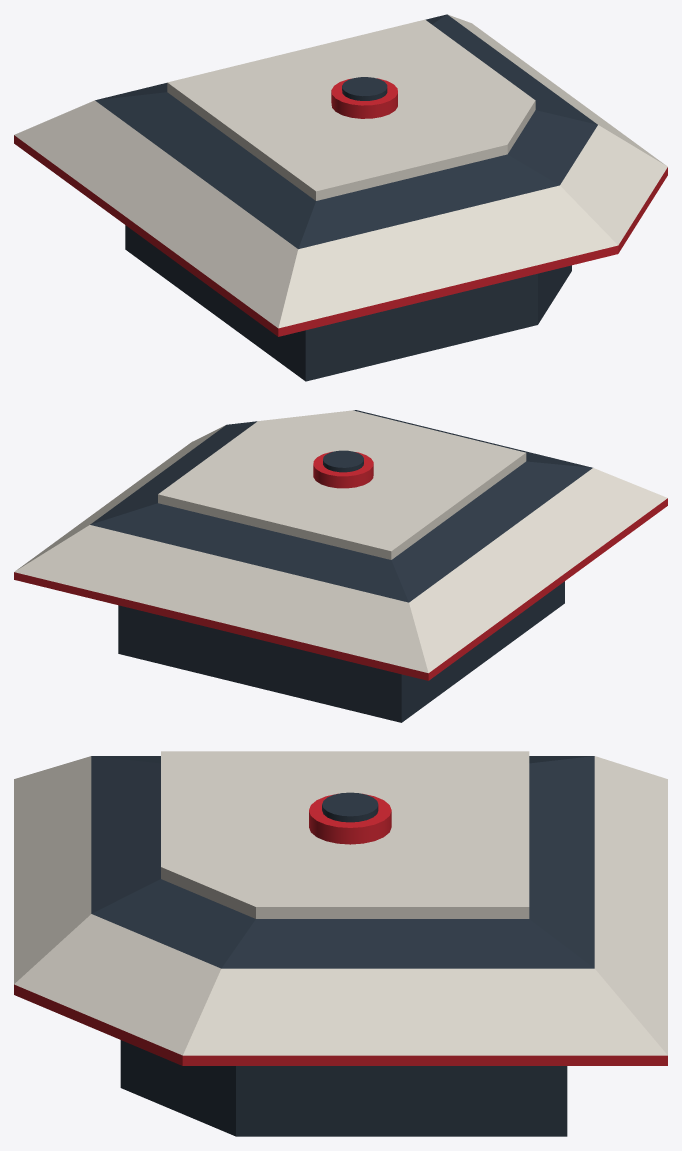
The model's file is pokemon_center_roof.glb.
3 renders of one model, top to bottom at view 1: azimuth 30°, elevation 25°; view 2: azimuth 150°, elevation 25°; view 3: azimuth 270°, elevation 25°, orthographic. The views are drawn at different scales.
Parts seen in each view (by area): view 1: PokemonCenterRoof; view 2: PokemonCenterRoof; view 3: PokemonCenterRoof.
Part boxes in pixels (<box>): PokemonCenterRoof: <box>14,14,667,381</box>; PokemonCenterRoof: <box>14,410,667,722</box>; PokemonCenterRoof: <box>14,751,667,1136</box>.
Size of the model in its own units: 7.89 by 3.13 by 7.89.
1 material, 1 textured.
